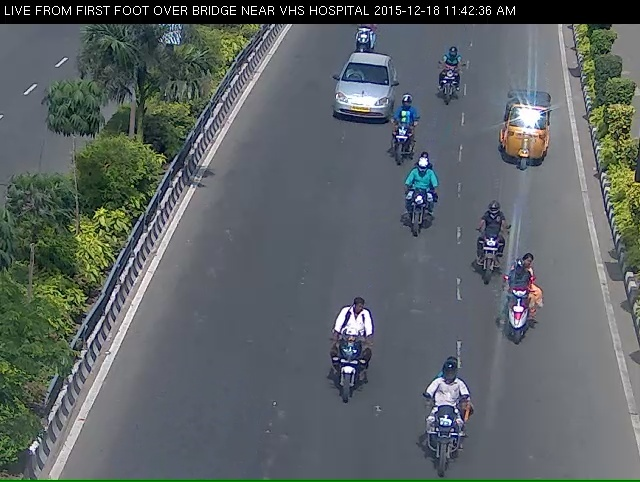Auto: (491, 98, 559, 182)
Car: (335, 68, 396, 132)
Person: (414, 403, 477, 480), (324, 324, 369, 431), (401, 175, 434, 255), (508, 282, 537, 369), (474, 222, 500, 304), (438, 61, 459, 115), (385, 112, 403, 172), (346, 22, 372, 63)
